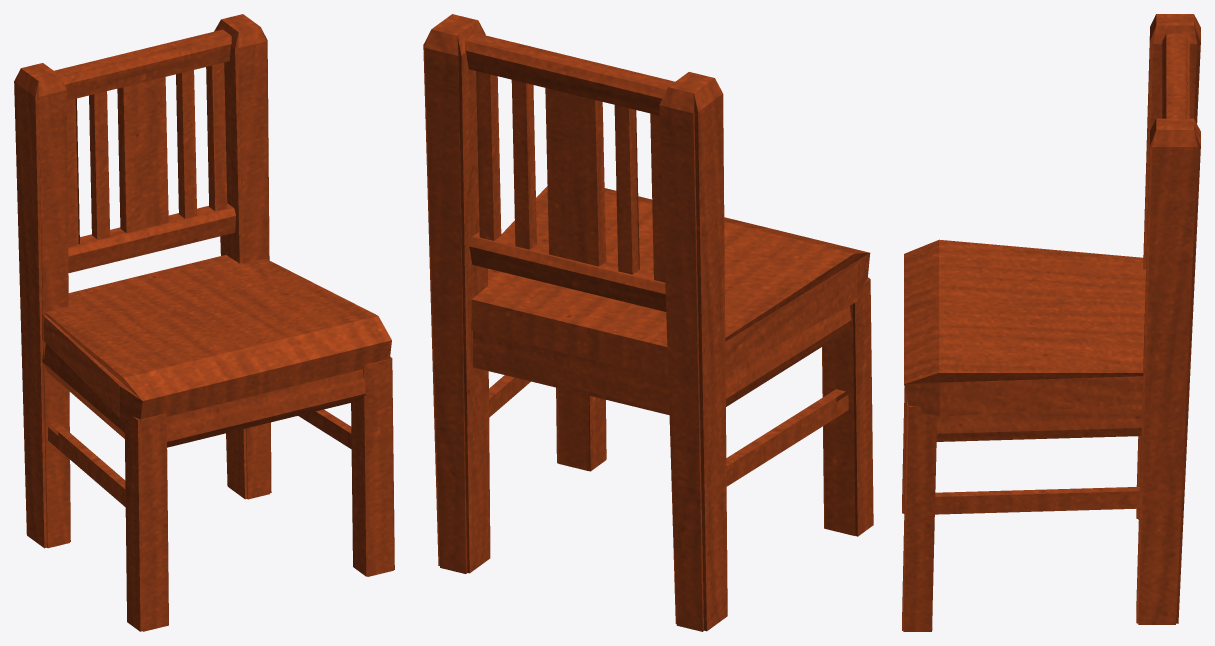
The model's file is in Chair .fbx.
3 renders of one model, left to right at view 1: azimuth 30°, elevation 25°; view 2: azimuth 150°, elevation 25°; view 3: azimuth 270°, elevation 25°, orthographic. The views are drawn at different scales.
Visible parts, largest first — view 1: in Chair; view 2: in Chair; view 3: in Chair.
Part boxes in pixels (bbox=[...]): in Chair: bbox=[14, 14, 394, 631]; in Chair: bbox=[423, 14, 873, 631]; in Chair: bbox=[902, 14, 1200, 631].
Bounding box in the file's own units: 2.35 × 3.95 × 2.17.
